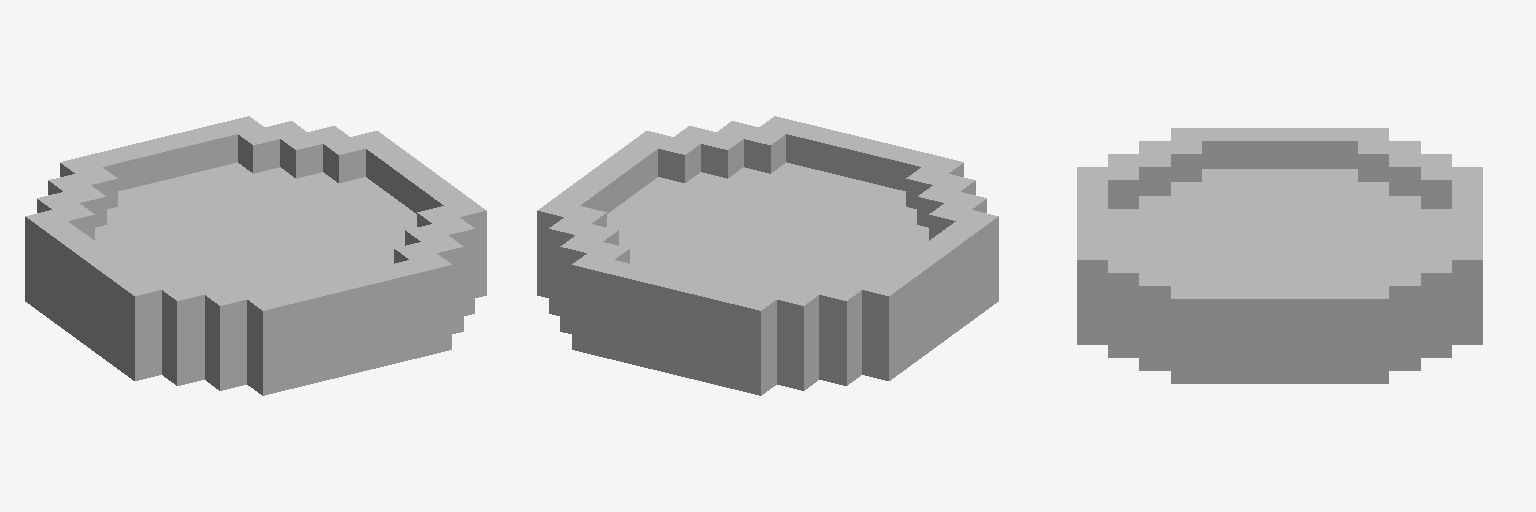
File: coin.obj
3 views of the same model, side by side, from view 1: azimuth 30°, elevation 25°; view 2: azimuth 150°, elevation 25°; view 3: azimuth 270°, elevation 25° (orthographic).
Parts seen in each view (by area): view 1: coin; view 2: coin; view 3: coin.
Boxes of the visible parts, <box> form: coin: <box>25,116,486,395</box>; coin: <box>537,116,998,395</box>; coin: <box>1077,128,1482,383</box>.
Size of the model in its own units: 13 by 3 by 13.